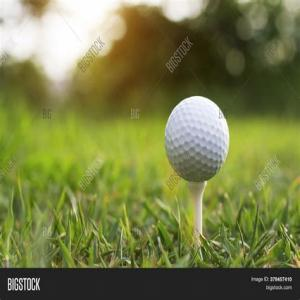Golf: (166, 94, 230, 178)
